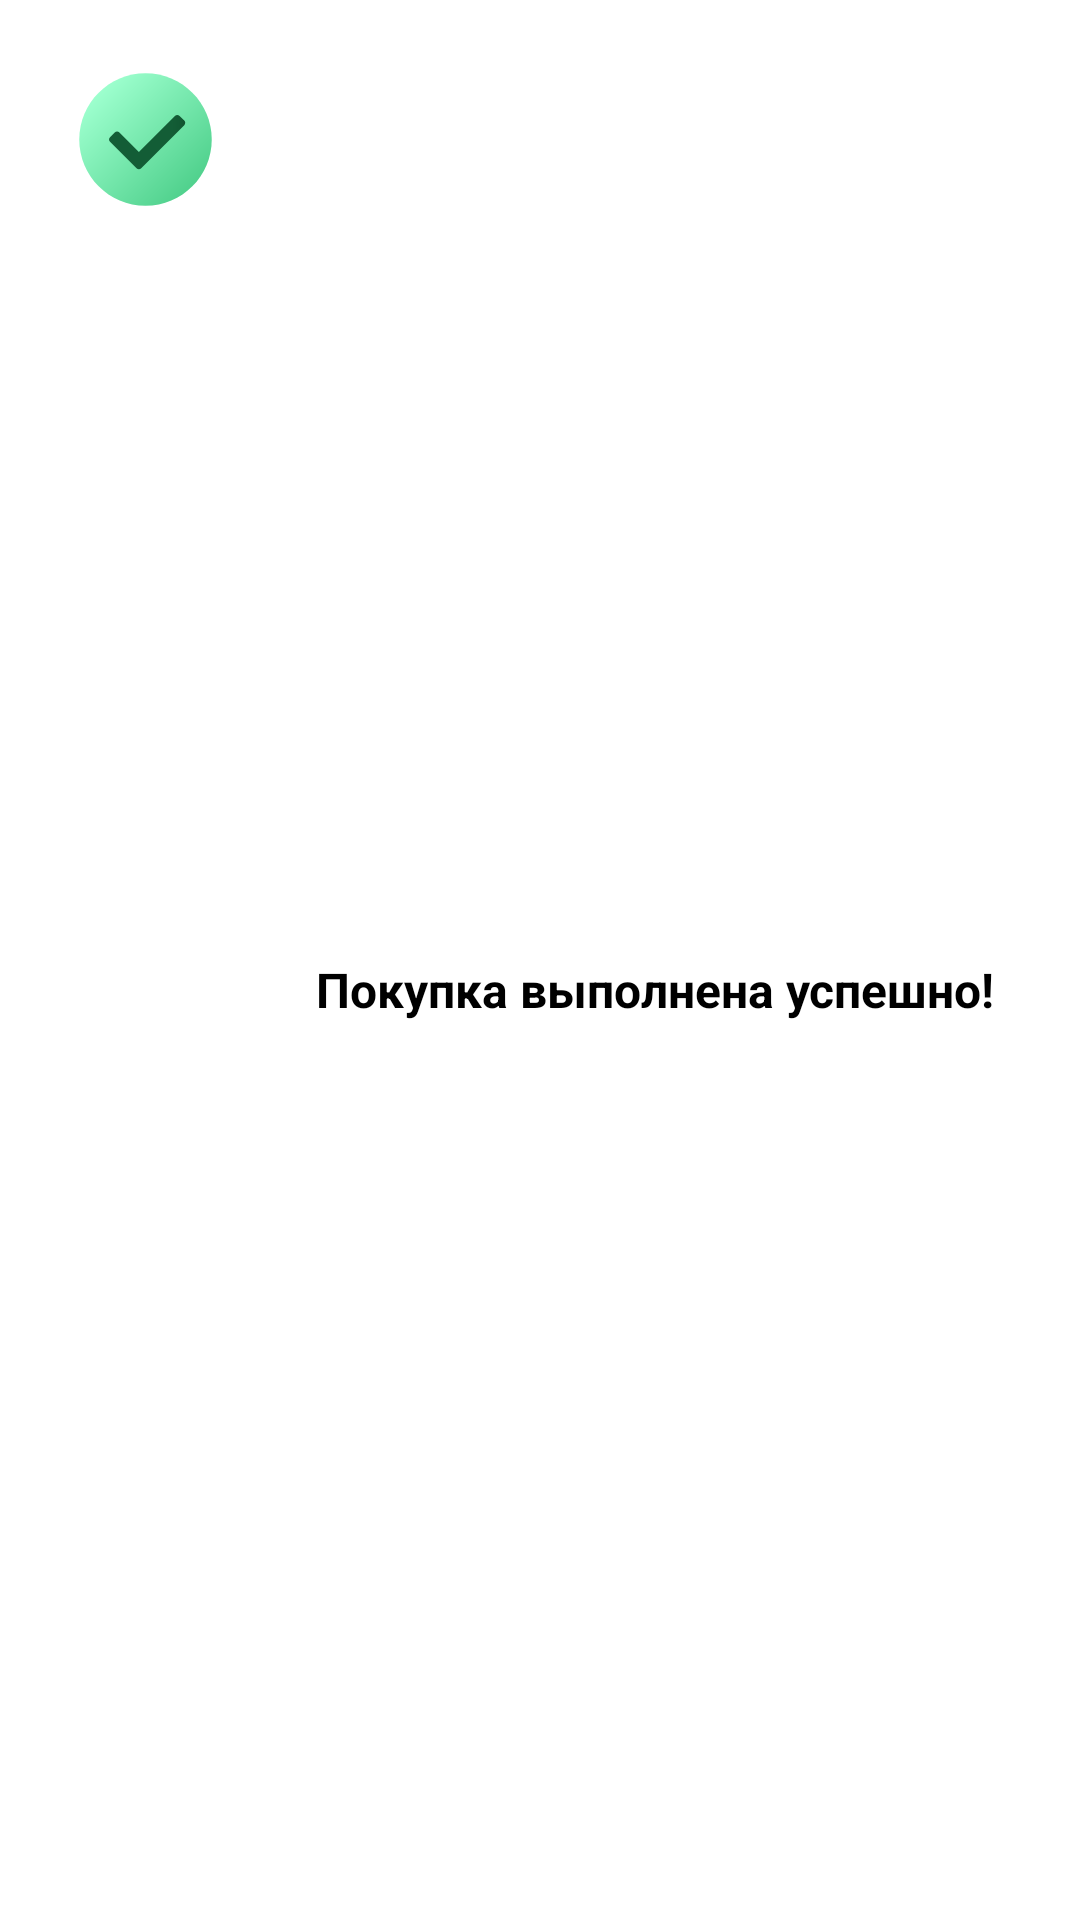

Icons on this 1080*1920 Android screen, each with its box as (x1, y1, x2, y2):
complete: (79, 73, 212, 206)
